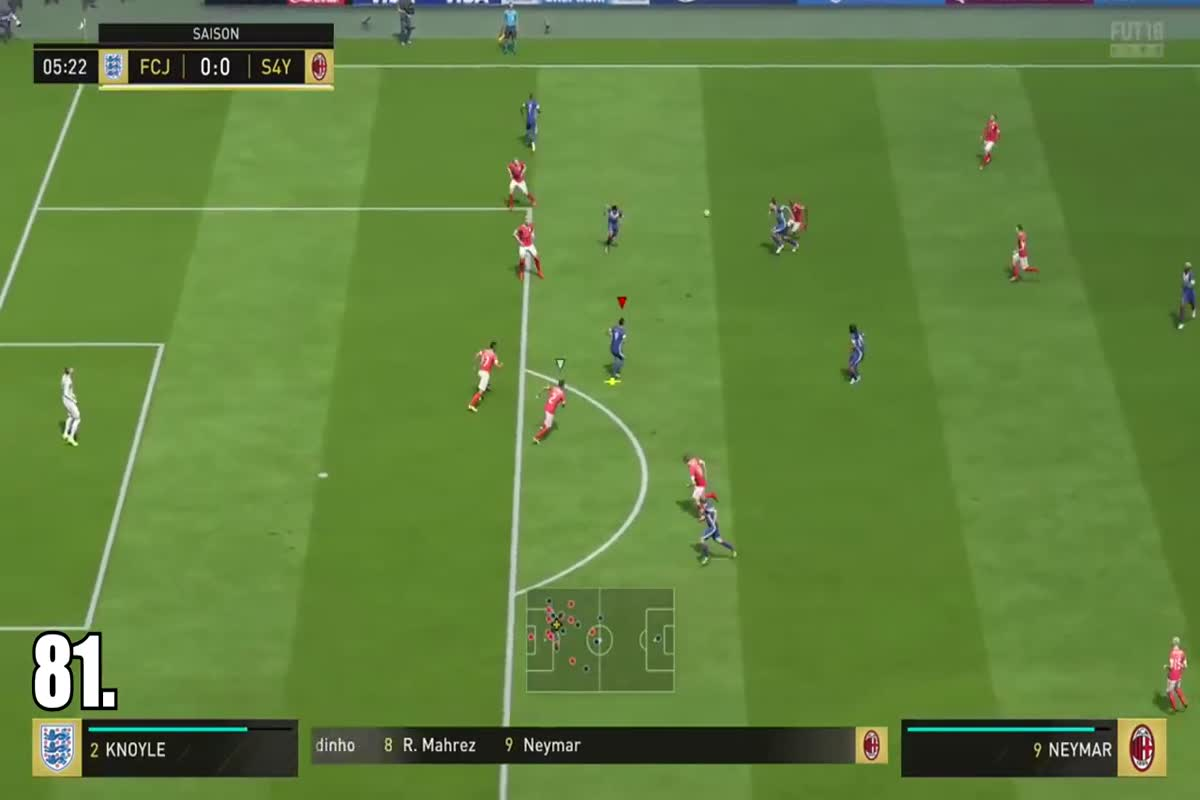ball: (698, 200, 719, 225)
